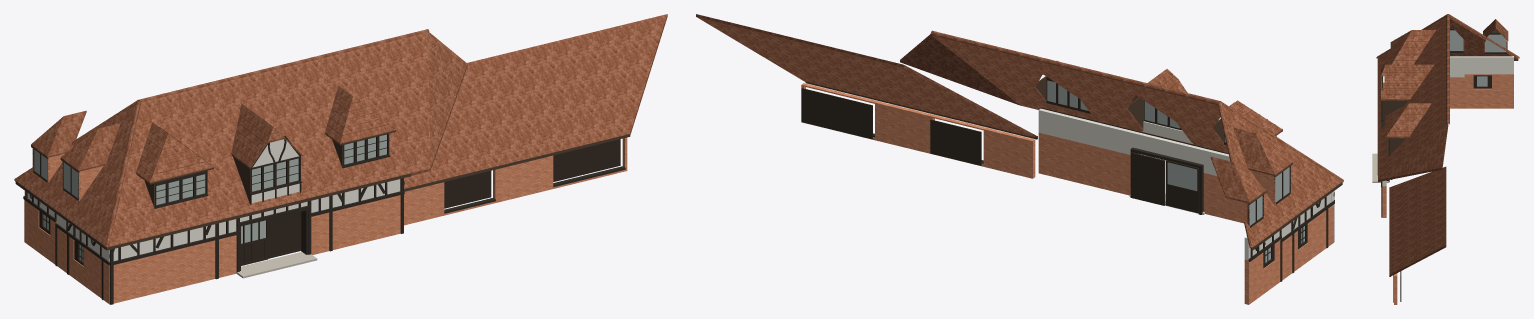
The model's file is lod-source.glb.
3 views of the same model, side by side, from view 1: azimuth 30°, elevation 25°; view 2: azimuth 150°, elevation 25°; view 3: azimuth 270°, elevation 25° (orthographic). The views are drawn at different scales.
Parts seen in each view (by area): view 1: 沙逊别墅辅楼院面木构与老虎窗; view 2: 沙逊别墅辅楼院面木构与老虎窗; view 3: 沙逊别墅辅楼院面木构与老虎窗.
Part boxes in pixels (box(x1,y1,x2,y2)): 沙逊别墅辅楼院面木构与老虎窗: box(14, 14, 667, 304); 沙逊别墅辅楼院面木构与老虎窗: box(696, 14, 1343, 304); 沙逊别墅辅楼院面木构与老虎窗: box(1372, 14, 1519, 304).
Bounding box in the file's own units: 30.54 × 7.51 × 8.34.
8 materials, 2 textured.
